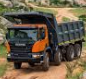truck: (4, 5, 85, 74)
